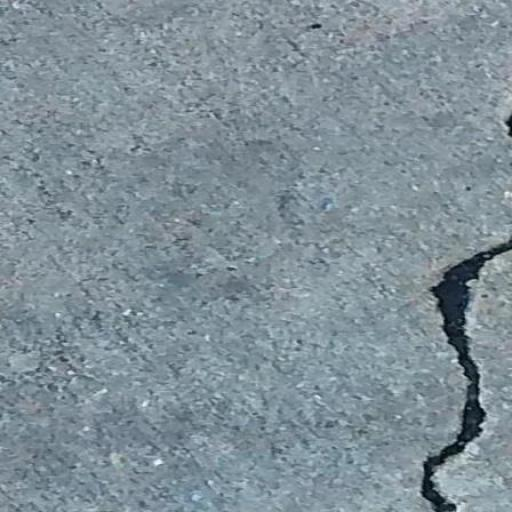spalling: (403, 215, 509, 506)
